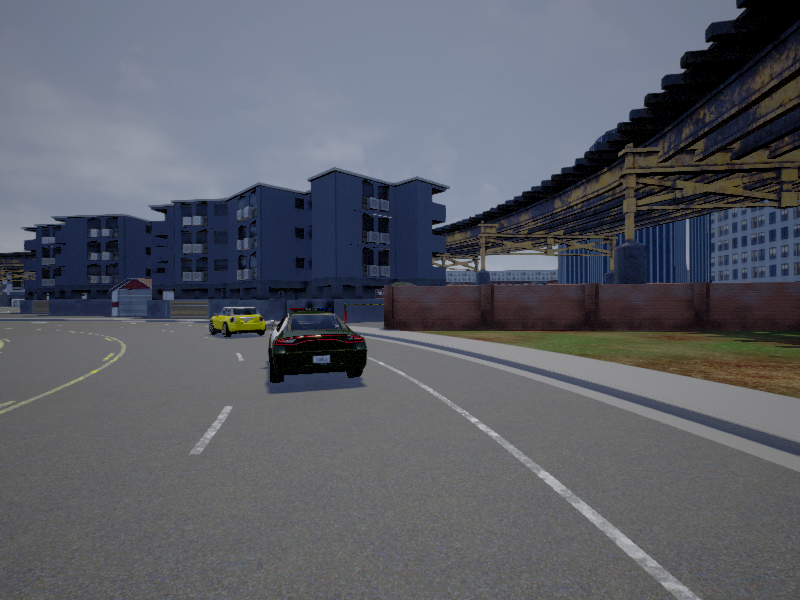Benign: (269, 308, 367, 385), (210, 309, 264, 337)
